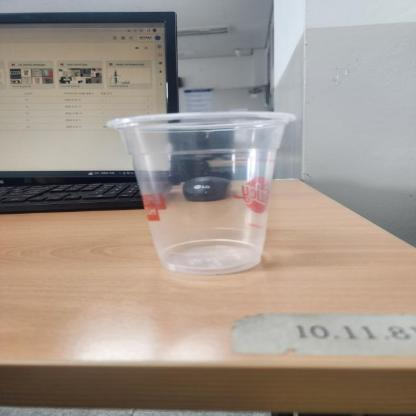Plastic Cup: (106, 112, 300, 274)
